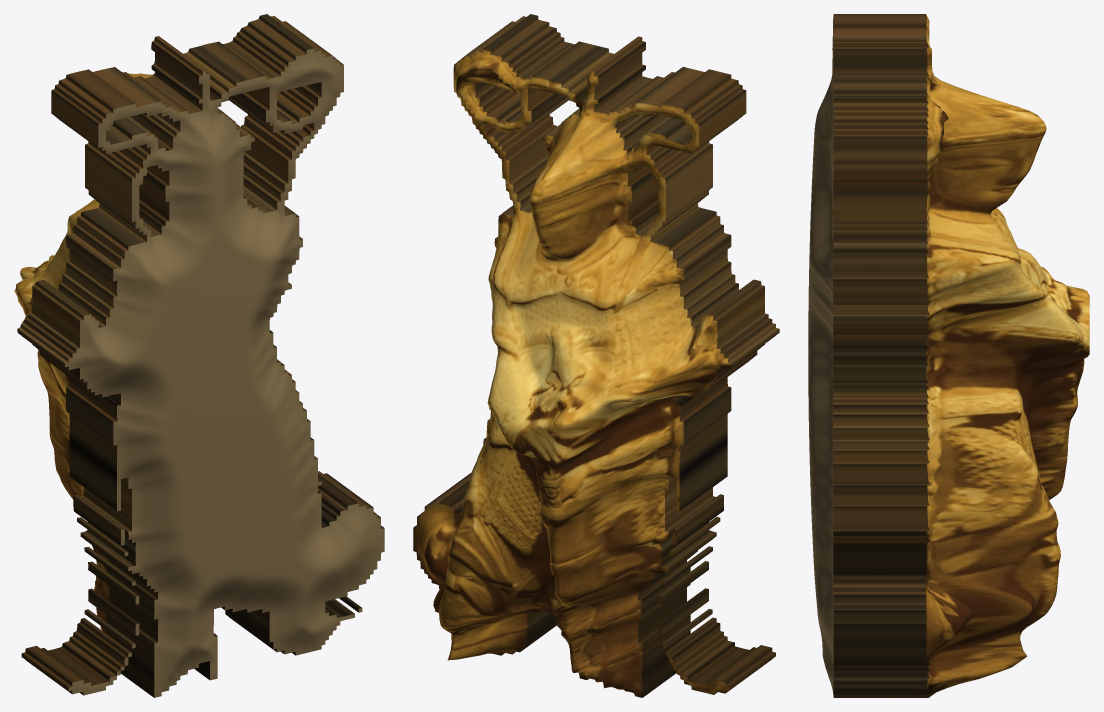
Rendered from weituo.glb.
3 renders of one model, left to right at view 1: azimuth 30°, elevation 25°; view 2: azimuth 150°, elevation 25°; view 3: azimuth 270°, elevation 25°, orthographic.
Visible parts, largest first — view 1: weituo; view 2: weituo; view 3: weituo.
Part boxes in pixels (box(x1,y1,x2,y2)): weituo: box(14, 14, 384, 697); weituo: box(413, 14, 779, 697); weituo: box(808, 14, 1089, 697).
Size of the model in its own units: 0.5345 by 0.9813 by 0.4125.
3 materials, 1 textured.
